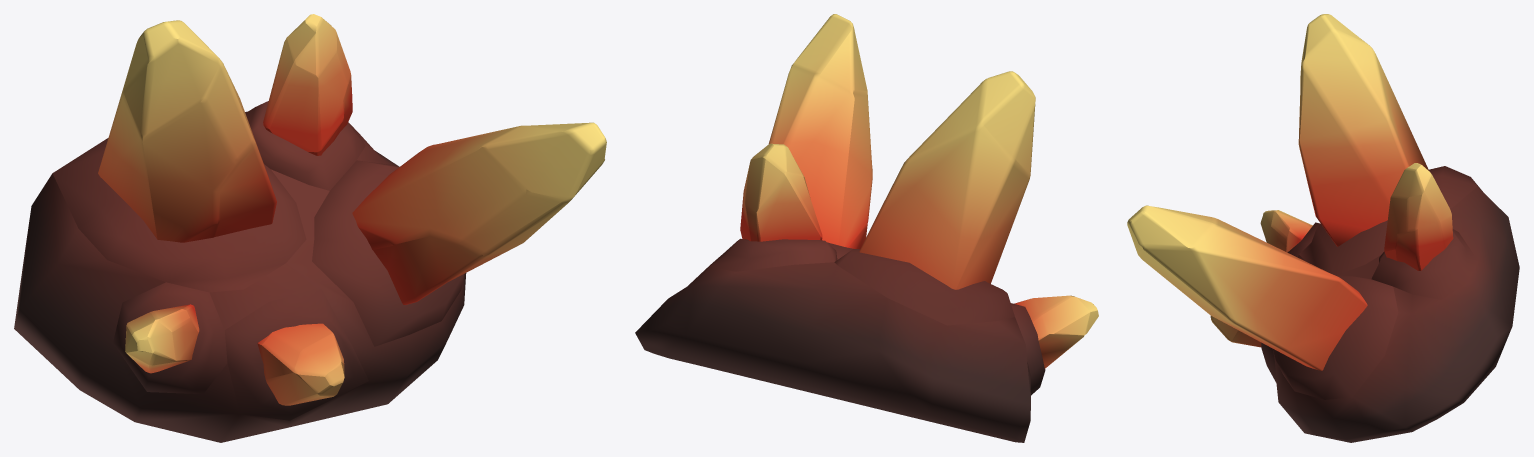
The picture shows the model from 3 angles, left to right: view 1: azimuth 30°, elevation 25°; view 2: azimuth 150°, elevation 25°; view 3: azimuth 270°, elevation 25°; orthographic projection. The views are drawn at different scales.
Visible parts, largest first — view 1: model_1.073; view 2: model_1.073; view 3: model_1.073.
Boxes of the visible parts, x1=… form: model_1.073: x1=14, y1=14, x2=606, y2=442; model_1.073: x1=635, y1=14, x2=1098, y2=442; model_1.073: x1=1127, y1=14, x2=1519, y2=442.
Size of the model in its own units: 4.6 by 4.33 by 4.57.
